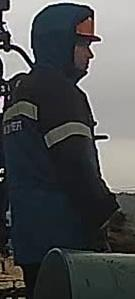helmet: (74, 12, 103, 43)
vest: (0, 69, 120, 265)
